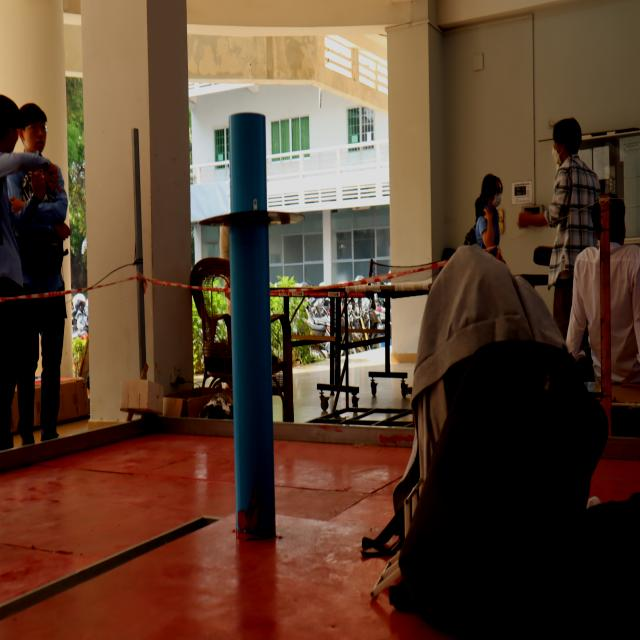pole: (191, 107, 308, 331)
